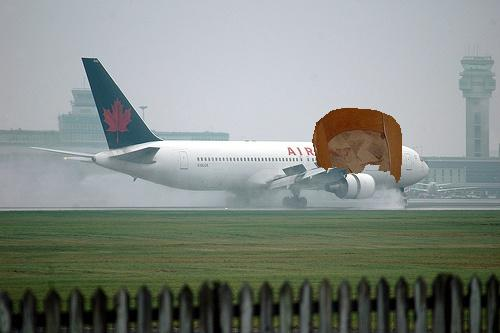tampered: (313, 109, 402, 183)
